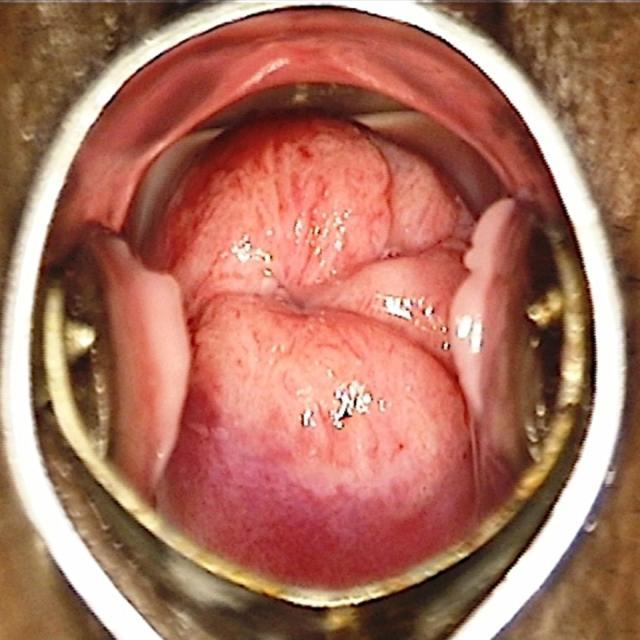cervical_lesion: (180, 151, 511, 475)
